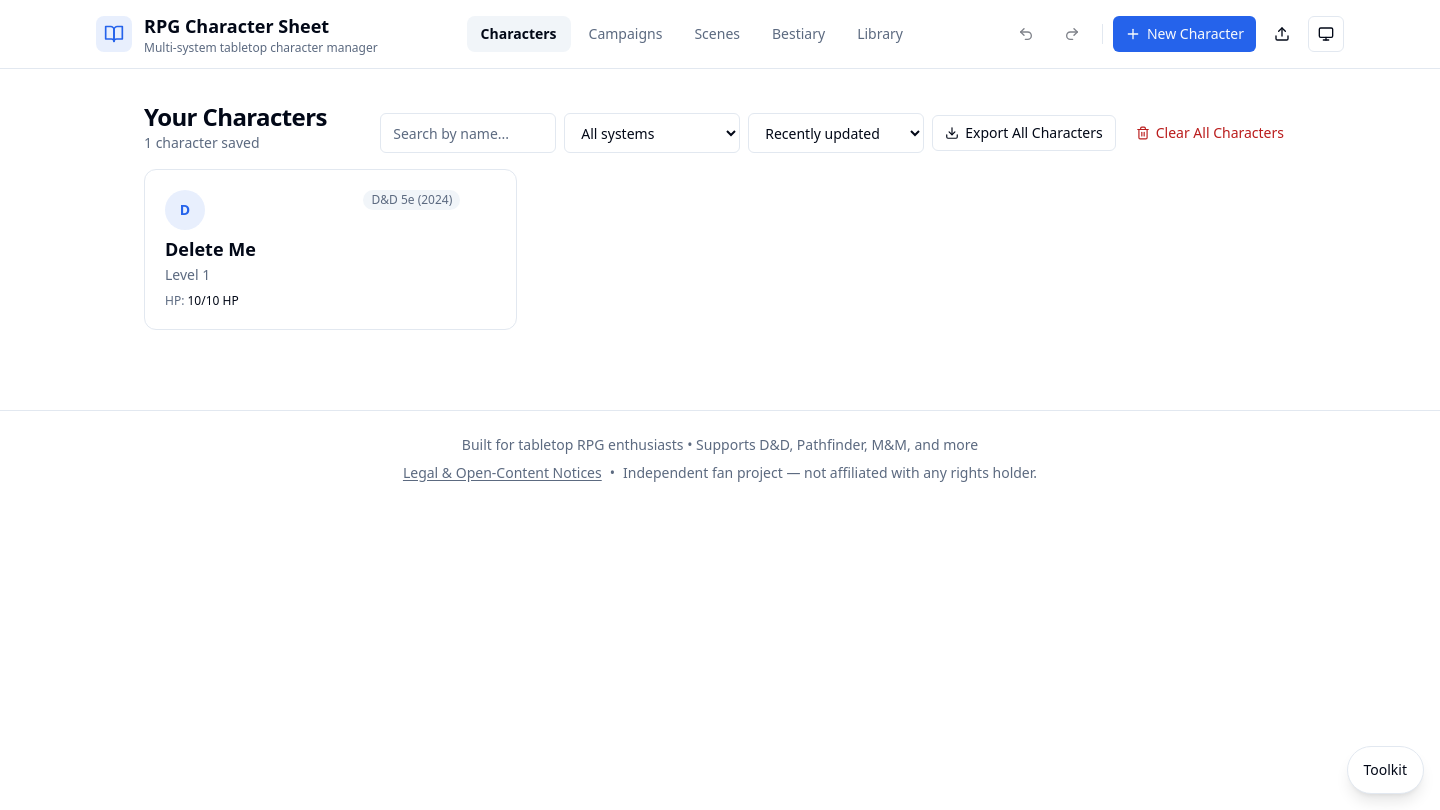
Test: Character Management Flow › deletes the current character from the header action after confirmation
Step 1. Click the button "Delete Me" → (331, 249), box left=144, top=169, right=517, bottom=330
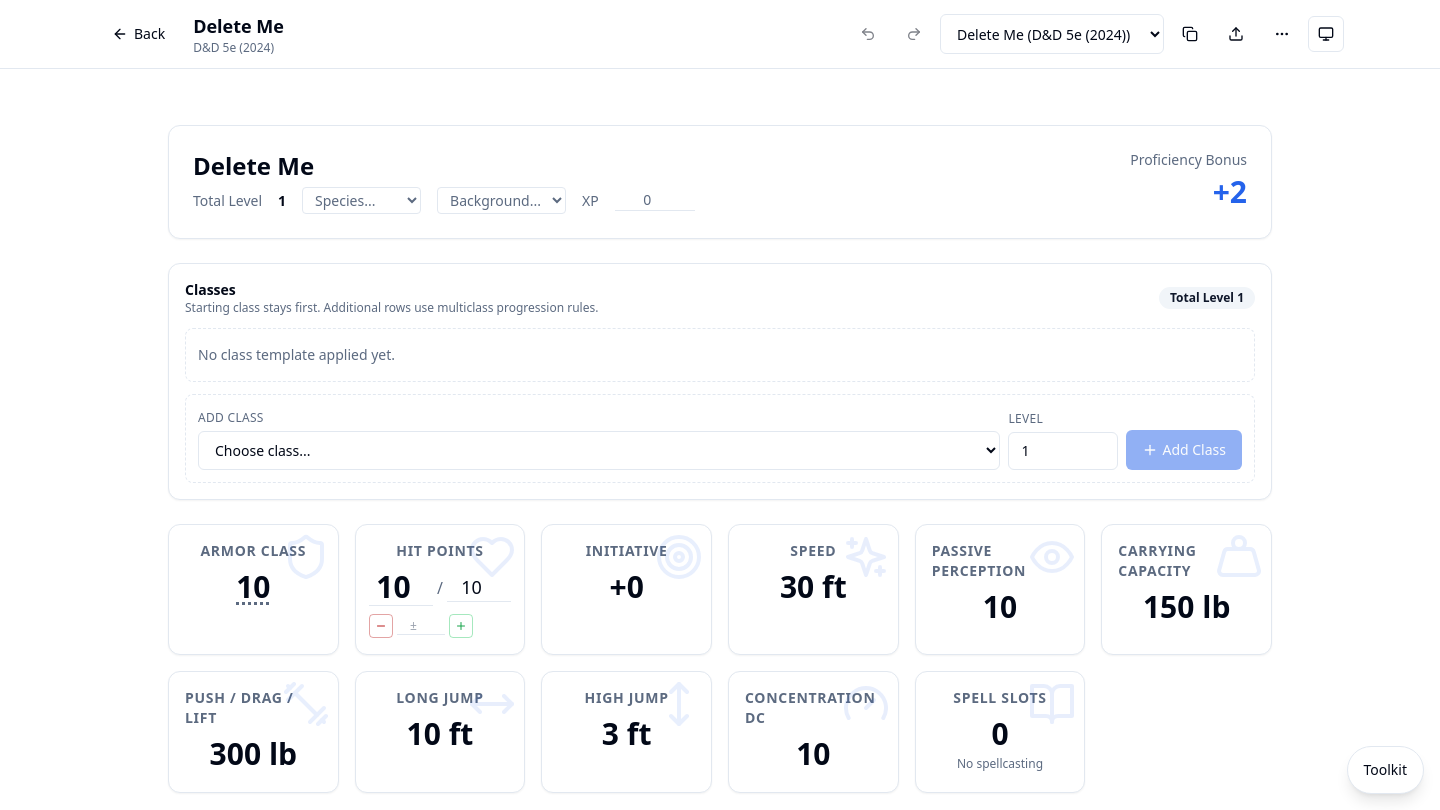
// Delete lives in the sheet header's '…' overflow (Finding 18 re-home).
Step 2. Click the button named "Character actions" → (1282, 34), box left=1262, top=14, right=1302, bottom=54
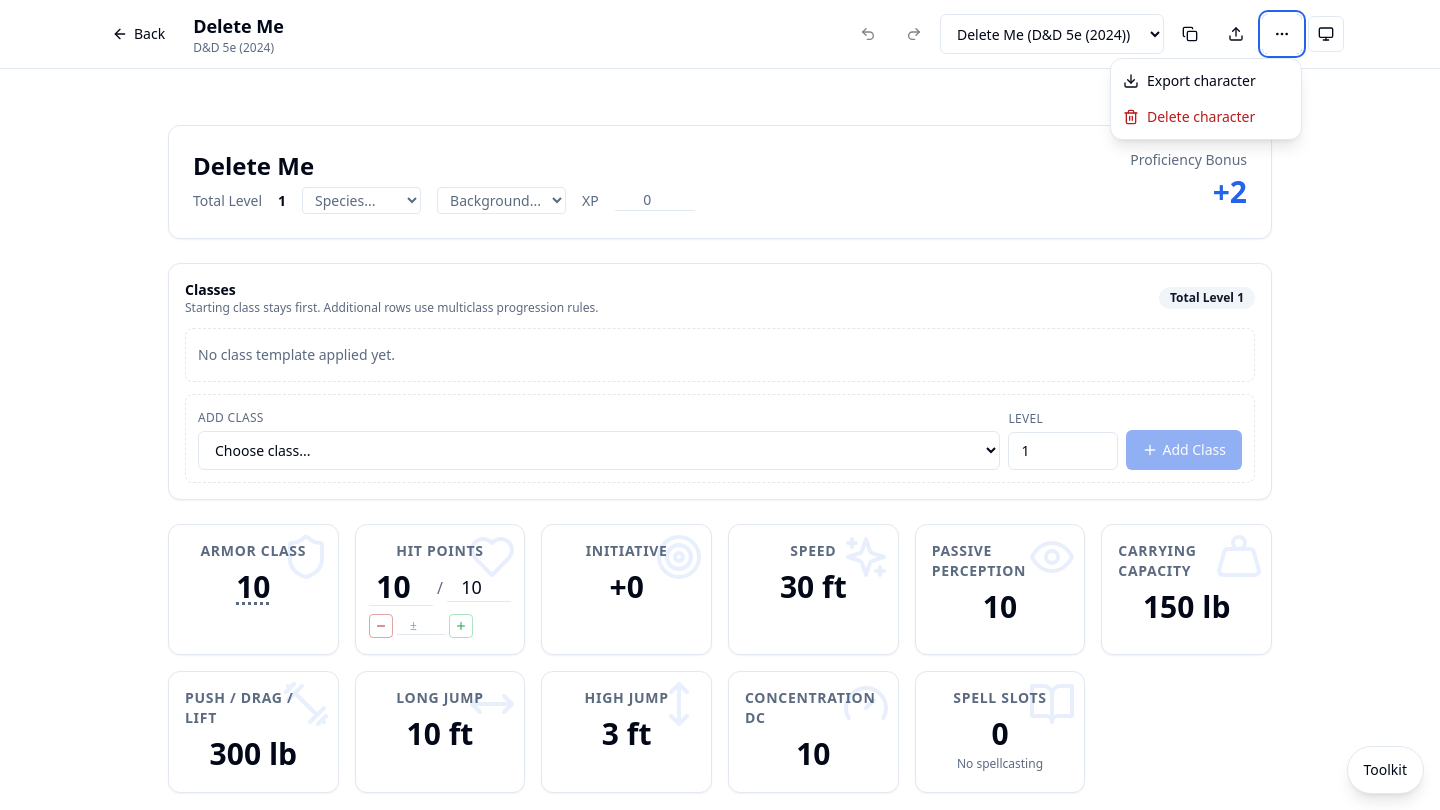
Step 3. Click the menu item "Delete character" → (1206, 117), box left=1111, top=99, right=1301, bottom=135
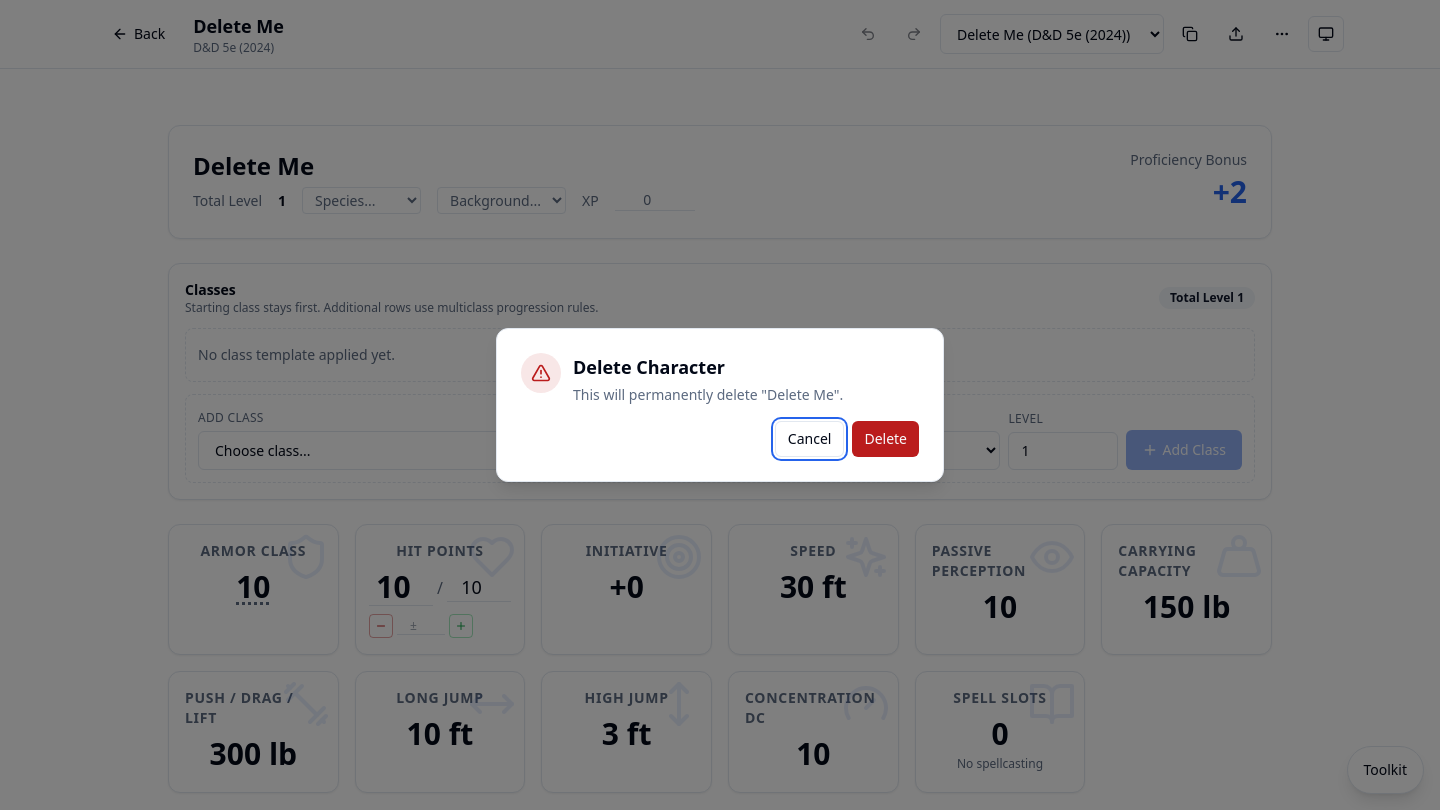
Result: the dialog shows "Delete Me" at left=573, top=385, right=843, bottom=404
Step 4. Click the button "Delete" → (886, 439), box left=852, top=421, right=919, bottom=457
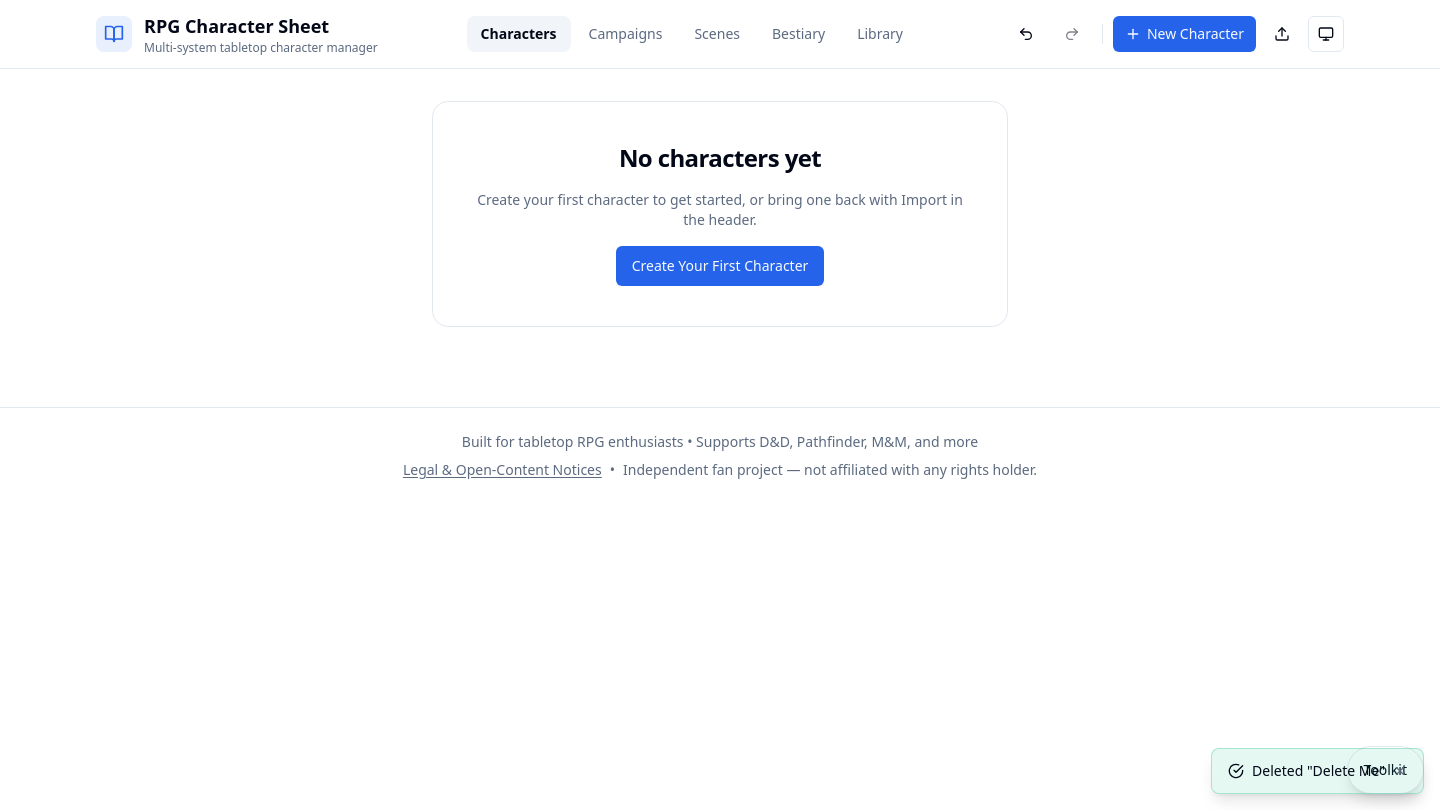
Result: the button "New Character" is shown at left=1113, top=16, right=1256, bottom=52
